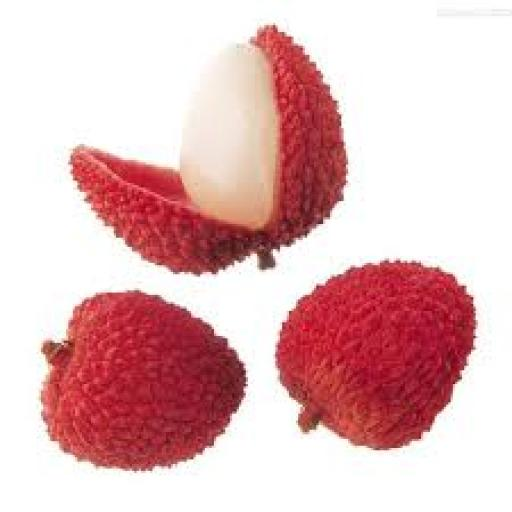lychee: (71, 26, 345, 274), (278, 263, 475, 447), (41, 293, 245, 468)
